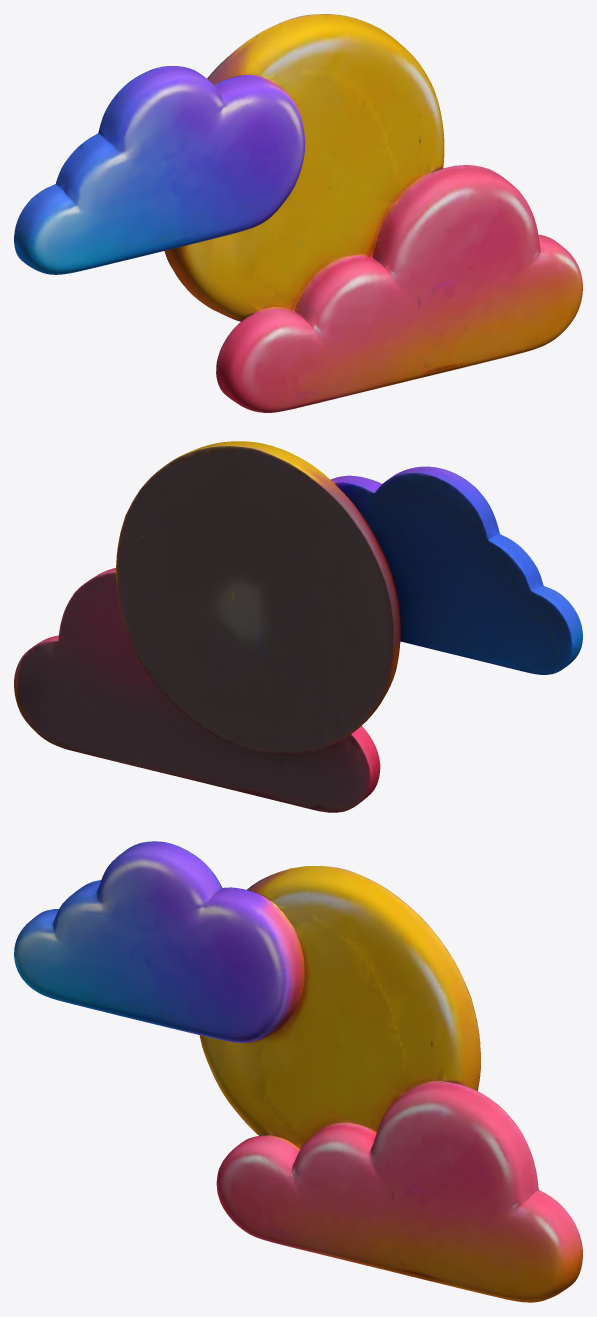
File: sunclouds__main__r4__p1.glb
3 renders of one model, top to bottom at view 1: azimuth 30°, elevation 25°; view 2: azimuth 150°, elevation 25°; view 3: azimuth 330°, elevation 25°, orthographic.
Visible parts, largest first — view 1: model; view 2: model; view 3: model.
Part boxes in pixels (x1,y1,x2,y2): model: (14, 14, 582, 412); model: (14, 441, 582, 812); model: (14, 841, 582, 1302).
Bounding box in the file's own units: 1.76 × 1.09 × 0.1941.
Materials: 1 (1 with a texture image).
